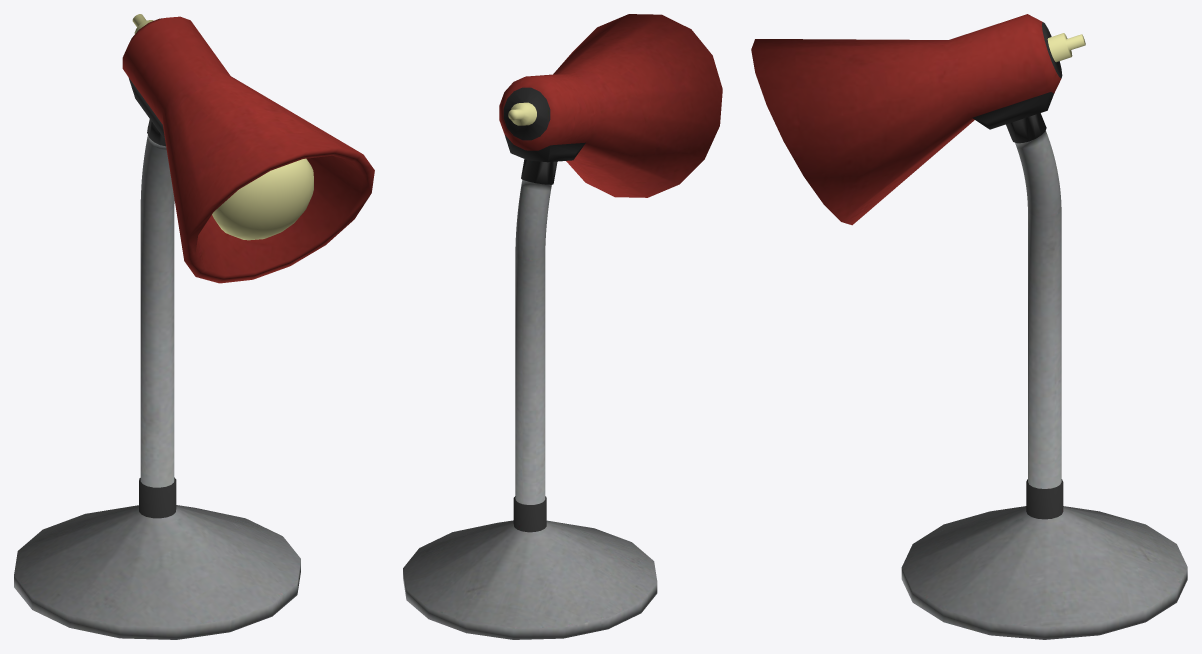
File: tablelamp.obj
3 views of the same model, side by side, from view 1: azimuth 30°, elevation 25°; view 2: azimuth 150°, elevation 25°; view 3: azimuth 270°, elevation 25° (orthographic). The views are drawn at different scales.
Bounding box in the file's own units: 1.7 × 3.68 × 2.6.
1 material, 1 textured.
